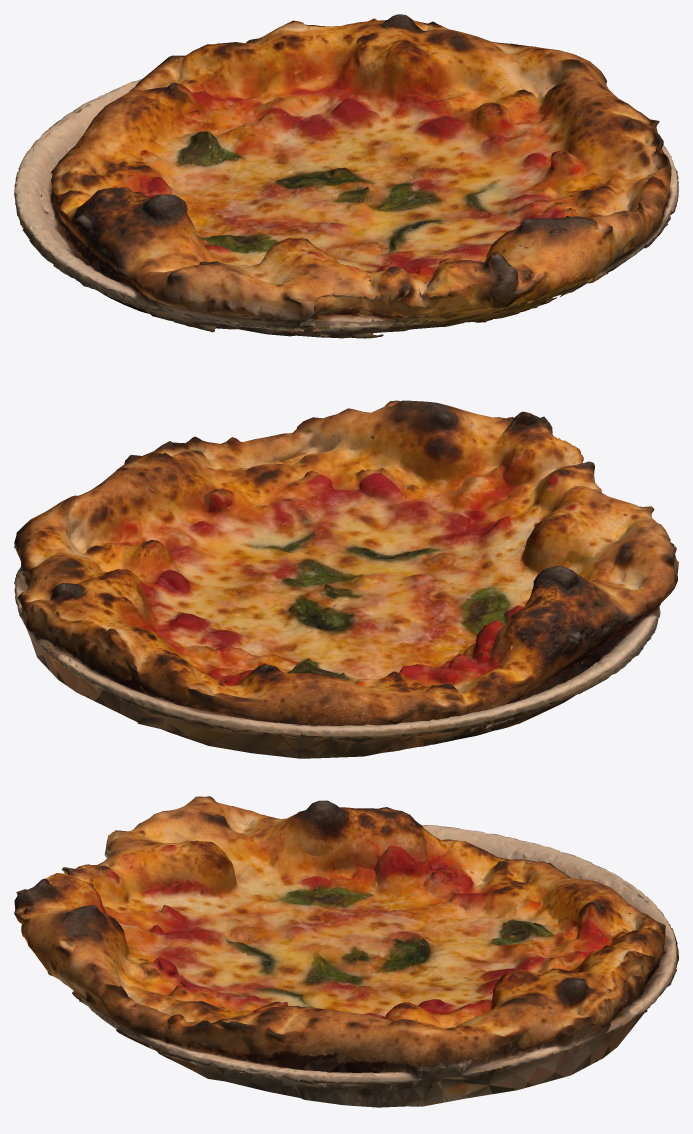
The model's file is pizza-margherita.glb.
3 views of the same model, one above another, from view 1: azimuth 30°, elevation 25°; view 2: azimuth 150°, elevation 25°; view 3: azimuth 270°, elevation 25° (orthographic). The views are drawn at different scales.
Visible parts, largest first — view 1: Object_2; view 2: Object_2; view 3: Object_2.
Part boxes in pixels (x1,y1,x2,y2): Object_2: (14, 14, 678, 338); Object_2: (14, 400, 678, 758); Object_2: (14, 796, 678, 1107).
Bounding box in the file's own units: 0.3122 × 0.0549 × 0.33.
Materials: 2 (1 with a texture image).
